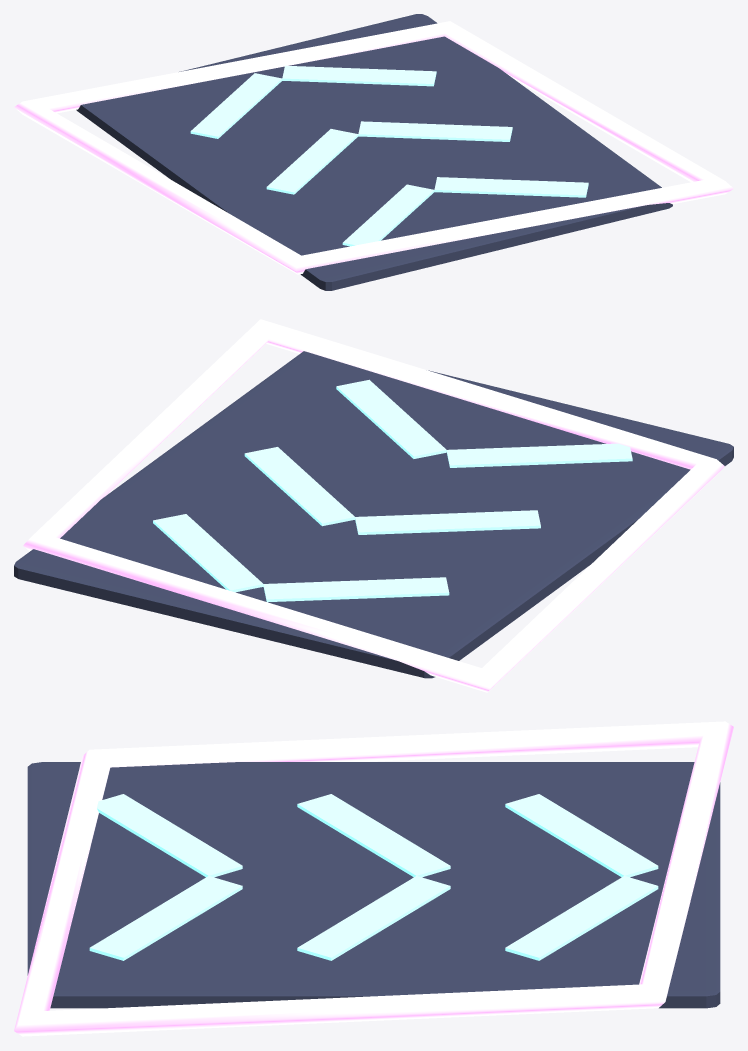
File: T04_Boost_Pad.glb
3 renders of one model, top to bottom at view 1: azimuth 30°, elevation 25°; view 2: azimuth 150°, elevation 25°; view 3: azimuth 270°, elevation 25°, orthographic. The views are drawn at different scales.
Parts seen in each view (by area): view 1: T04_Boost_Pad_Mesh; view 2: T04_Boost_Pad_Mesh; view 3: T04_Boost_Pad_Mesh.
Part boxes in pixels (bbox=[...]): T04_Boost_Pad_Mesh: bbox=[14, 14, 733, 290]; T04_Boost_Pad_Mesh: bbox=[14, 319, 733, 692]; T04_Boost_Pad_Mesh: bbox=[14, 721, 733, 1036].
Size of the model in its own units: 3.12 by 0.1033 by 3.12.
